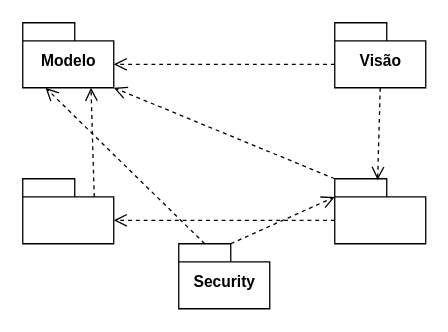
Image size: 448x332. Some labels were removed from this diagram. The shapes that lost their labels are listed below. From the top down, each one's centre as x and y in pixels, then its label:
(x=67, y=210): Repository
(x=379, y=210): Controller
